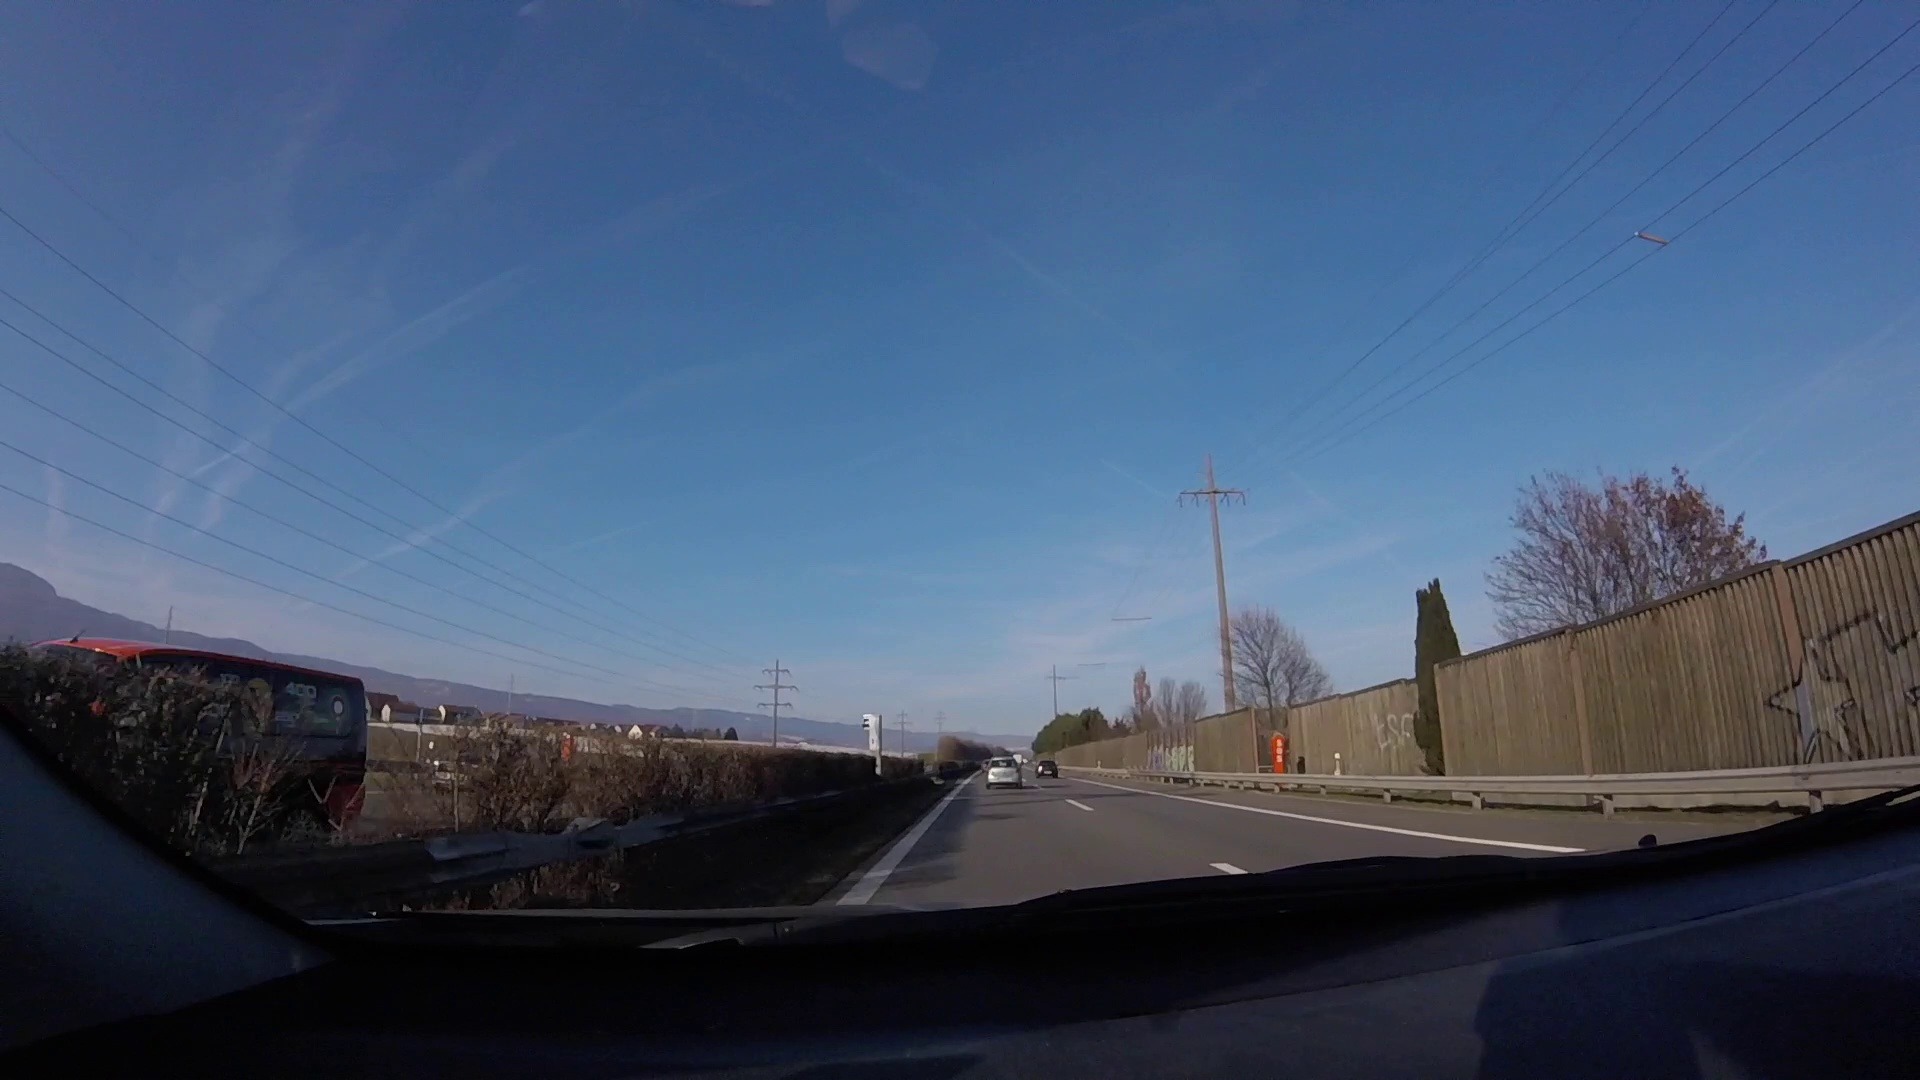radar: (861, 713, 885, 775)
